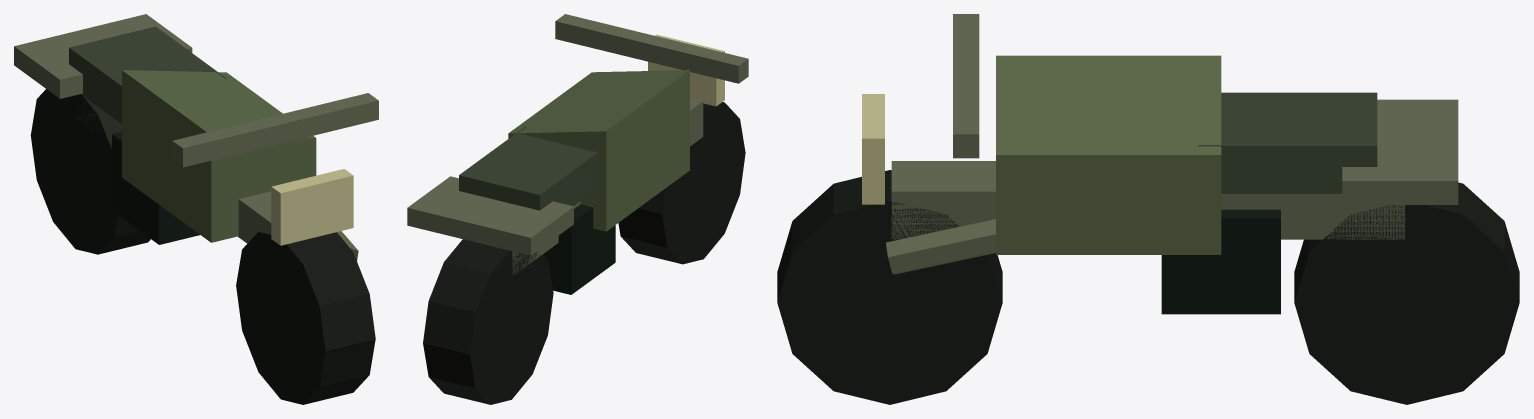
The model's file is bike.obj.
The picture shows the model from 3 angles, left to right: view 1: azimuth 30°, elevation 25°; view 2: azimuth 150°, elevation 25°; view 3: azimuth 270°, elevation 25°; orthographic projection. The views are drawn at different scales.
Visible parts, largest first — view 1: Body, Wheel_00, Wheel_01; view 2: Body, Wheel_01, Wheel_00; view 3: Body, Wheel_01, Wheel_00.
Boxes of the visible parts, bbox=[...] form: Body: bbox=[14, 14, 378, 260]; Wheel_00: bbox=[236, 232, 375, 404]; Wheel_01: bbox=[30, 89, 150, 254]; Body: bbox=[407, 14, 748, 294]; Wheel_01: bbox=[423, 239, 553, 404]; Wheel_00: bbox=[618, 102, 745, 264]; Body: bbox=[862, 14, 1458, 314]; Wheel_01: bbox=[1294, 182, 1519, 404]; Wheel_00: bbox=[777, 170, 1002, 404].
Size of the model in its own units: 0.9632 by 1.18 by 2.51.
1 material, 1 textured.
